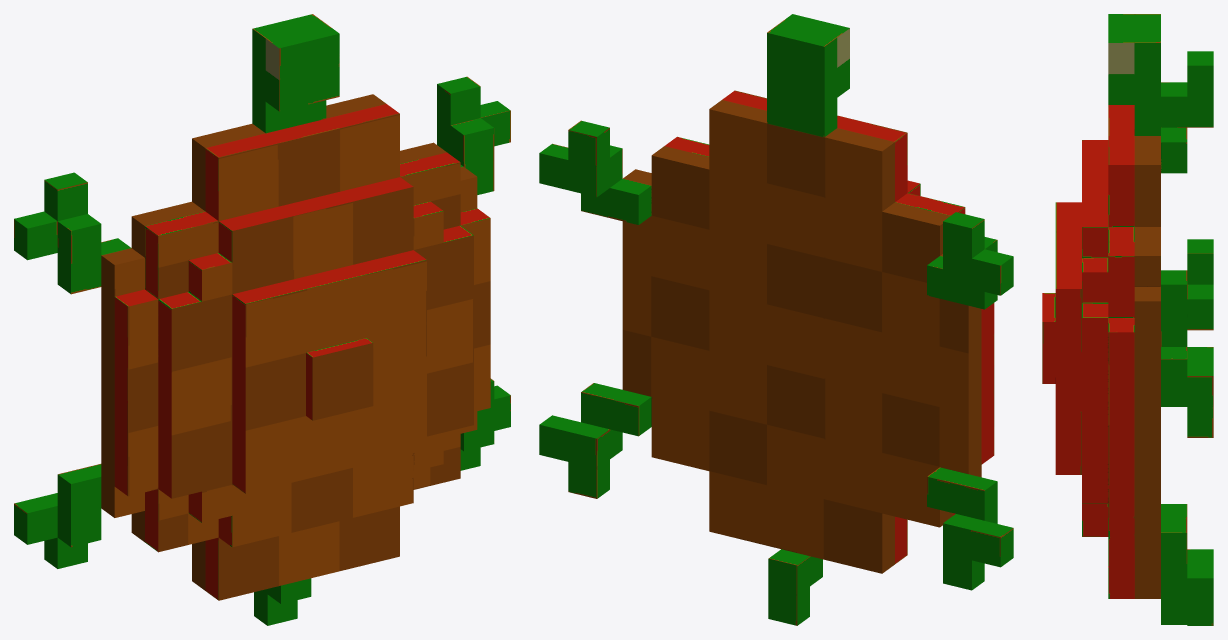
The model's file is turtle.obj.
3 views of the same model, side by side, from view 1: azimuth 30°, elevation 25°; view 2: azimuth 150°, elevation 25°; view 3: azimuth 270°, elevation 25° (orthographic). The views are drawn at different scales.
Visible parts, largest first — view 1: Cube; view 2: Cube; view 3: Cube.
Boxes of the visible parts, x1,y1,x2,y2 form: Cube: [14, 14, 510, 625]; Cube: [539, 14, 1013, 625]; Cube: [1042, 14, 1213, 625].
Size of the model in its own units: 2.08 by 2.47 by 0.65.
